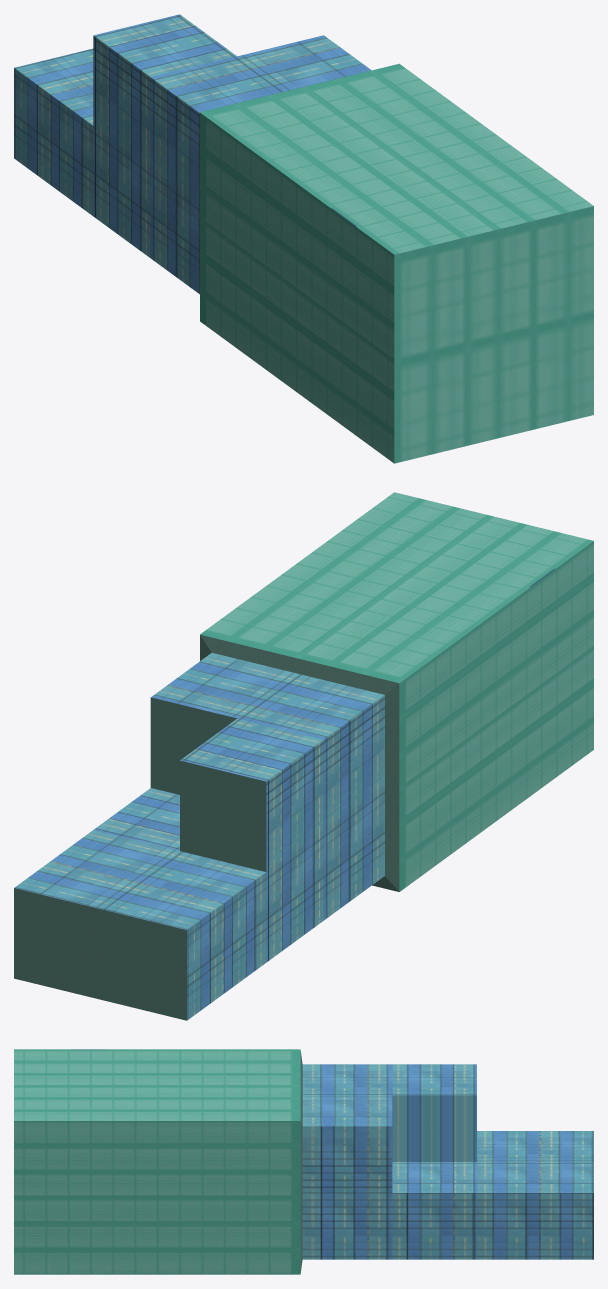
Rendered from buildings-comercial-04.obj.
3 renders of one model, top to bottom at view 1: azimuth 30°, elevation 25°; view 2: azimuth 150°, elevation 25°; view 3: azimuth 270°, elevation 25°, orthographic. The views are drawn at different scales.
Visible parts, largest first — view 1: buildings-comercial-04_Cube.096; view 2: buildings-comercial-04_Cube.096; view 3: buildings-comercial-04_Cube.096.
Boxes of the visible parts, bbox=[...] form: buildings-comercial-04_Cube.096: bbox=[14, 14, 593, 463]; buildings-comercial-04_Cube.096: bbox=[14, 492, 593, 1020]; buildings-comercial-04_Cube.096: bbox=[14, 1049, 593, 1274].
Size of the model in its own units: 3.3 by 3.3 by 11.27.
